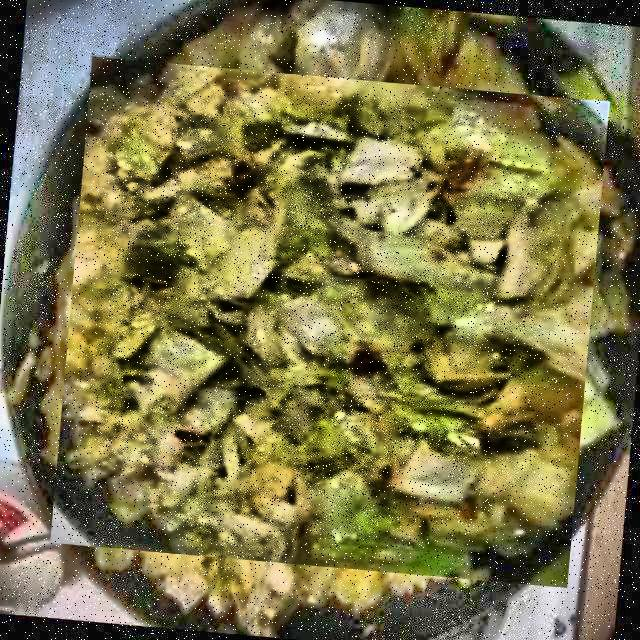Food: (57, 49, 602, 596)
